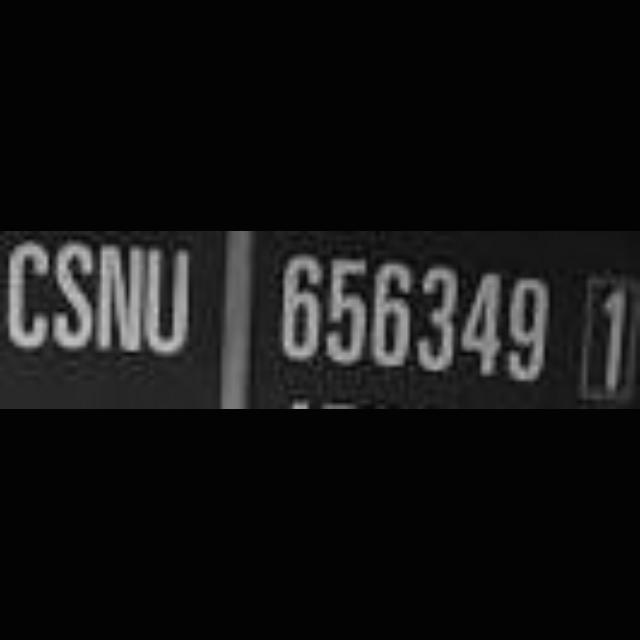1: (598, 284, 628, 394)
3: (414, 260, 462, 376)
4: (459, 264, 506, 382)
5: (324, 252, 372, 368)
6: (278, 245, 328, 365), (366, 256, 416, 372)
9: (506, 272, 552, 386)
c: (0, 232, 48, 356)
n: (96, 234, 146, 354)
s: (50, 234, 99, 356)
u: (147, 242, 193, 358)
